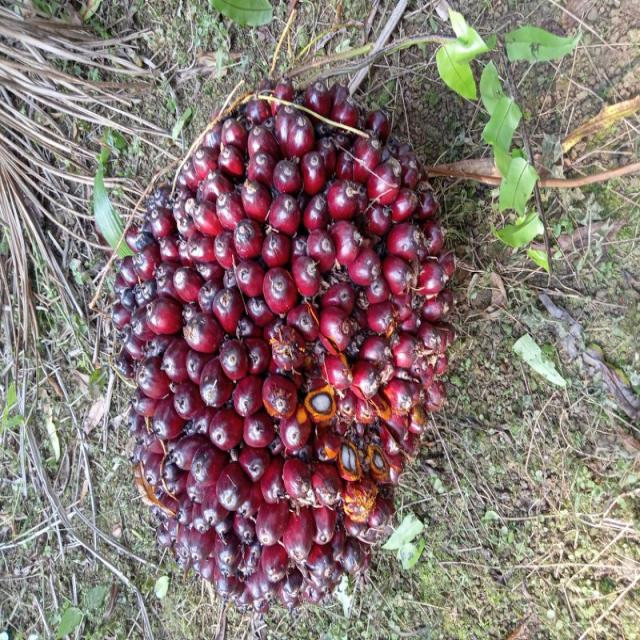fraksi 1: (70, 36, 532, 630)
